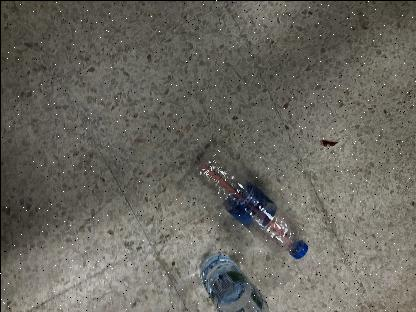Plastic Bottle: (192, 140, 306, 258), (197, 252, 270, 312)
